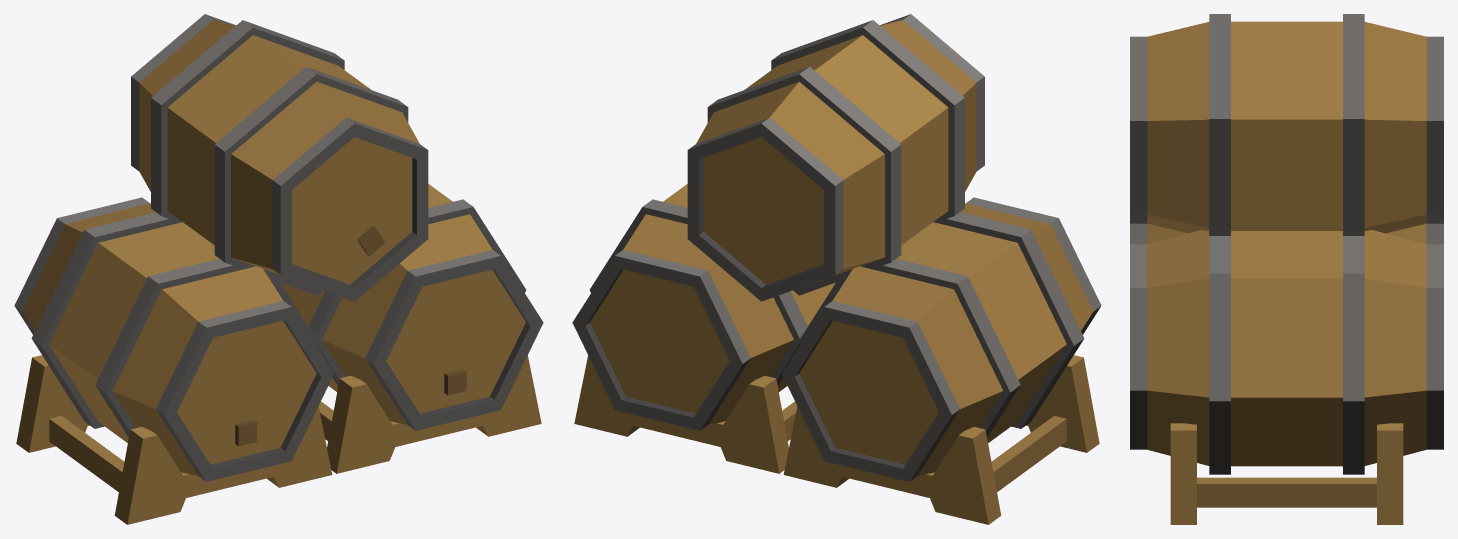
Rendered from BarrelStack_03.gltf.
The picture shows the model from 3 angles, left to right: view 1: azimuth 30°, elevation 25°; view 2: azimuth 150°, elevation 25°; view 3: azimuth 270°, elevation 25°; orthographic projection. The views are drawn at different scales.
Visible parts, largest first — view 1: SF_Prop_BarrelStack_03; view 2: SF_Prop_BarrelStack_03; view 3: SF_Prop_BarrelStack_03.
Part boxes in pixels (x1,y1,x2,y2): SF_Prop_BarrelStack_03: (14, 14, 543, 524); SF_Prop_BarrelStack_03: (572, 14, 1101, 524); SF_Prop_BarrelStack_03: (1130, 14, 1443, 524).
Bounding box in the file's own units: 0.0613 × 0.0538 × 0.0378.
Materials: 1 (1 with a texture image).
